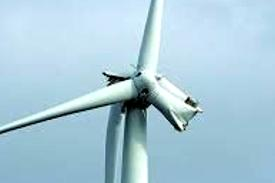faulty: (94, 53, 205, 136)
